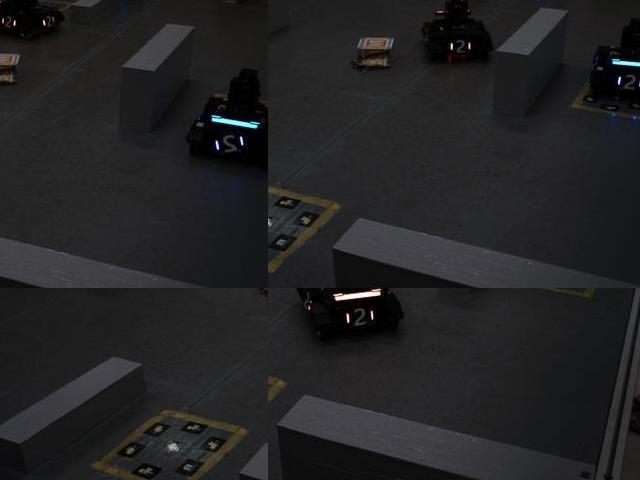armor: (212, 129, 248, 159), (340, 305, 378, 330), (612, 70, 639, 96), (445, 37, 476, 55), (0, 12, 19, 34), (37, 11, 57, 30)
